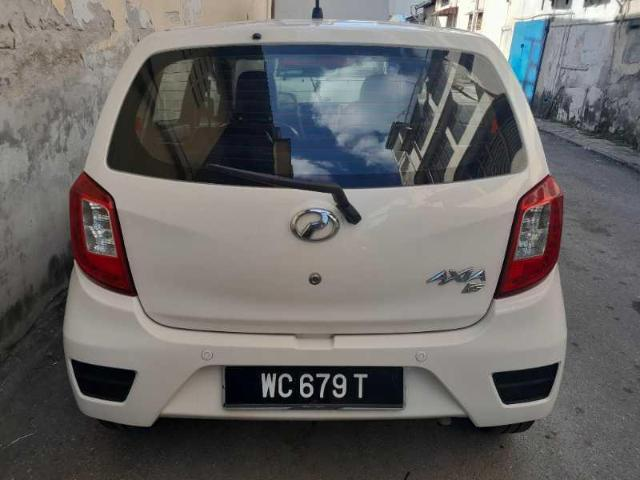License_Plate: (222, 365, 406, 411)
car: (62, 11, 569, 435)
